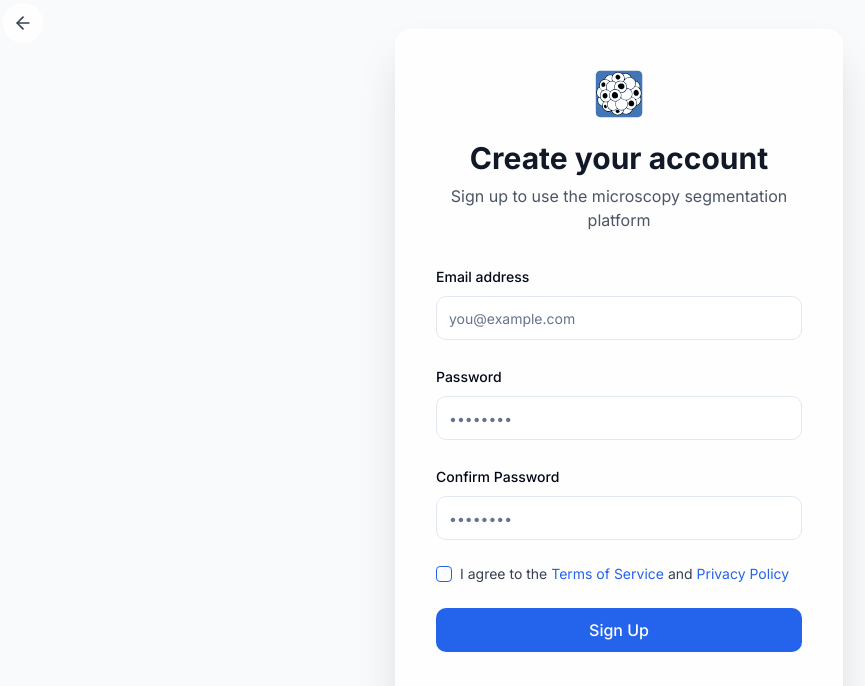
SignUp › Real-time password-match indicator › shows "Passwords match" when passwords are equal
Type "test@example.com" into the field labelled "Email address".
click(619, 318); type("test@example.com")  # box [436,296,802,340]
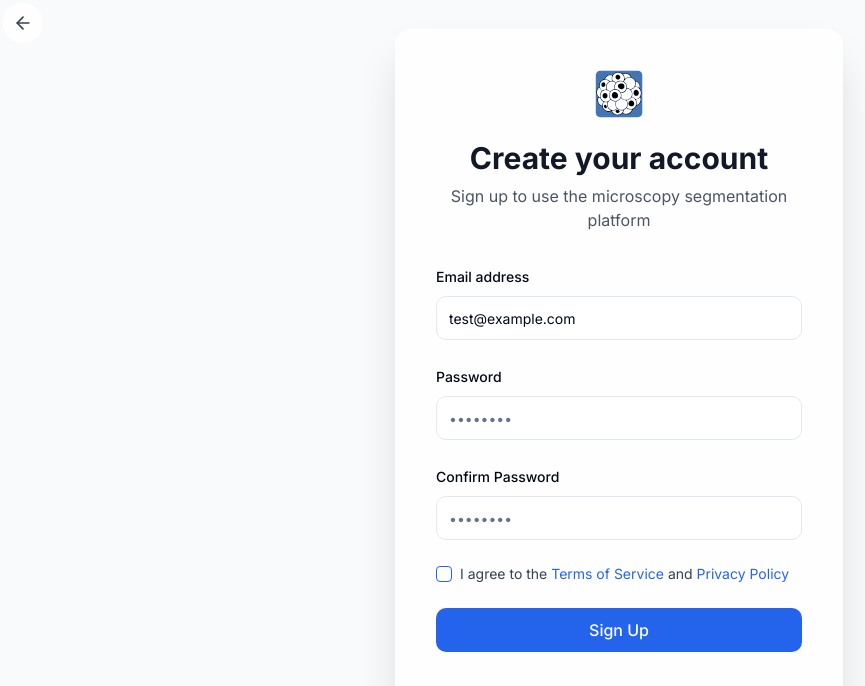
Type "abc12345" into the password field labelled "Password".
click(619, 418); type("abc12345")  # box [436,396,802,440]
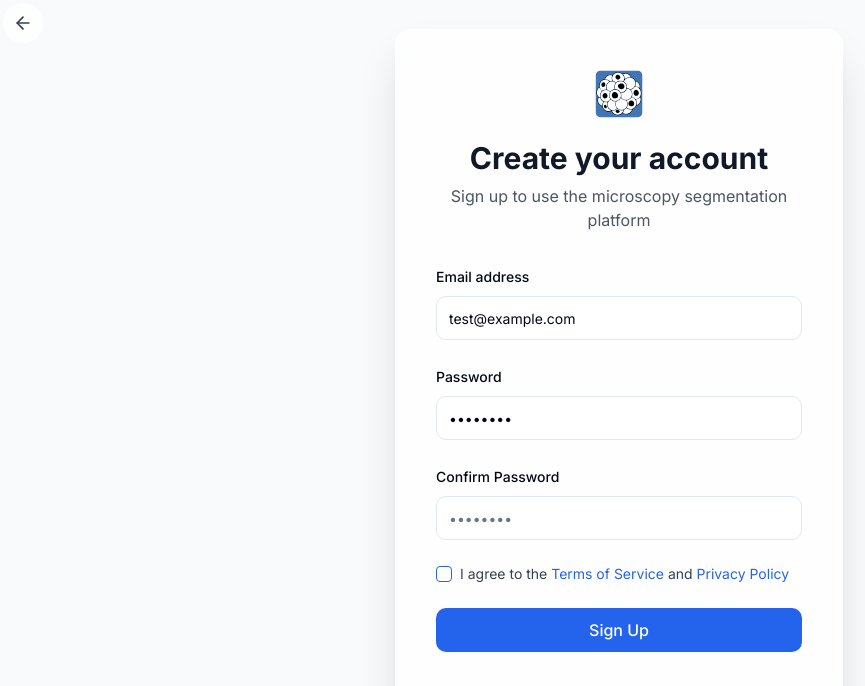
Type "abc12345" into the password field labelled "Confirm Password".
click(619, 518); type("abc12345")  # box [436,496,802,540]
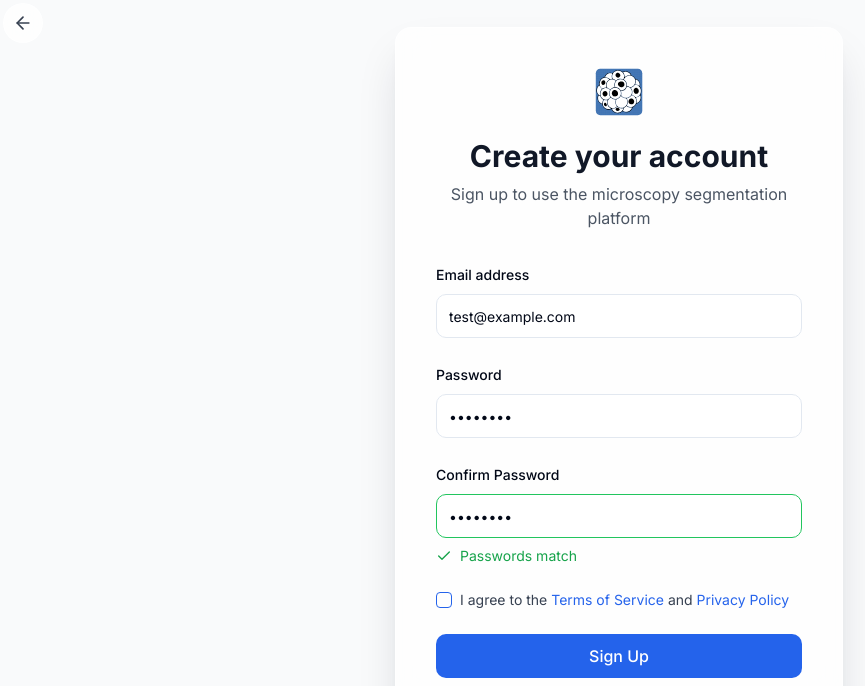
Expected: the text "Passwords match" is shown, [460,546,577,566]
